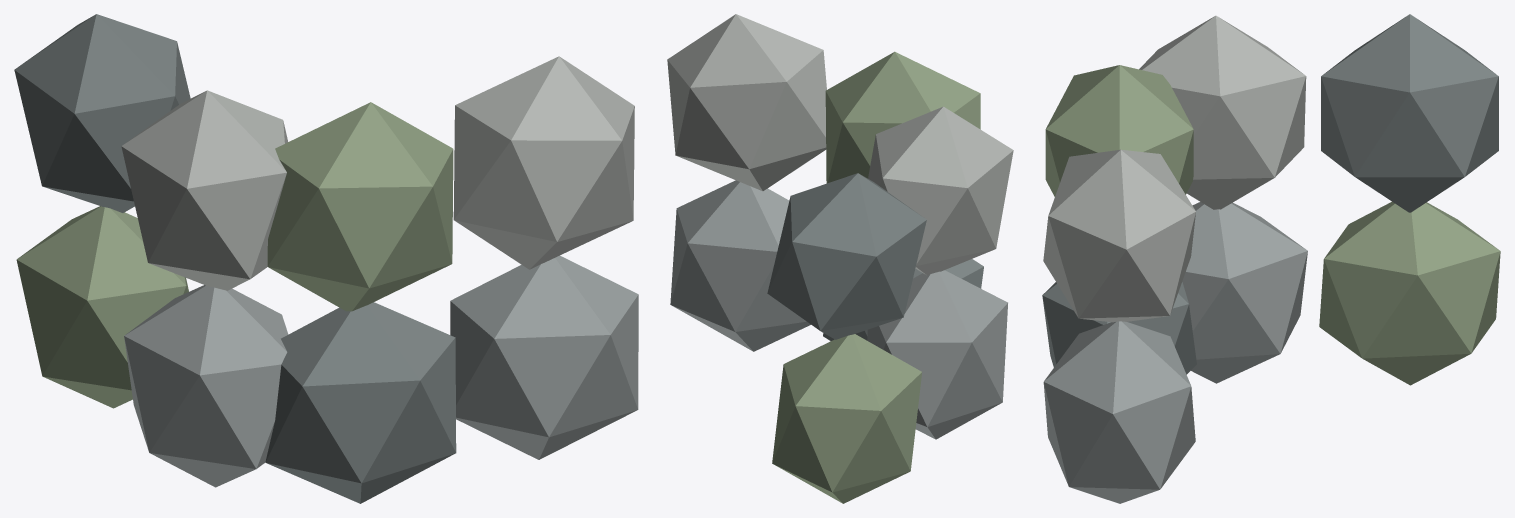
The model's file is cliff_corner_outer_2x2x2.glb.
3 renders of one model, left to right at view 1: azimuth 30°, elevation 25°; view 2: azimuth 150°, elevation 25°; view 3: azimuth 270°, elevation 25°, orthographic. The views are drawn at different scales.
Visible parts, largest first — view 1: cliff_corner_outer_03, cliff_corner_outer_07, cliff_corner_outer_05, cliff_corner_outer_01, cliff_corner_outer_02, cliff_corner_outer_06, cliff_corner_outer_08, cliff_corner_outer_04; view 2: cliff_corner_outer_07, cliff_corner_outer_04, cliff_corner_outer_08, cliff_corner_outer_03, cliff_corner_outer_06, cliff_corner_outer_02, cliff_corner_outer_05, cliff_corner_outer_01; view 3: cliff_corner_outer_08, cliff_corner_outer_04, cliff_corner_outer_03, cliff_corner_outer_07, cliff_corner_outer_06, cliff_corner_outer_02, cliff_corner_outer_05, cliff_corner_outer_01.
Part boxes in pixels (left/top/right/bottom): cliff_corner_outer_03: left=450, top=255, right=638, bottom=459; cliff_corner_outer_07: left=453, top=56, right=634, bottom=269; cliff_corner_outer_05: left=267, top=102, right=453, bottom=311; cliff_corner_outer_01: left=265, top=302, right=456, bottom=503; cliff_corner_outer_02: left=124, top=285, right=288, bottom=487; cliff_corner_outer_06: left=121, top=90, right=287, bottom=290; cliff_corner_outer_08: left=14, top=14, right=190, bottom=212; cliff_corner_outer_04: left=16, top=206, right=188, bottom=408; cliff_corner_outer_07: left=667, top=14, right=826, bottom=191; cliff_corner_outer_04: left=772, top=334, right=922, bottom=503; cliff_corner_outer_08: left=767, top=173, right=926, bottom=339; cliff_corner_outer_03: left=670, top=180, right=810, bottom=351; cliff_corner_outer_06: left=868, top=106, right=1013, bottom=275; cliff_corner_outer_02: left=867, top=270, right=1007, bottom=439; cliff_corner_outer_05: left=825, top=51, right=980, bottom=183; cliff_corner_outer_01: left=823, top=259, right=983, bottom=341; cliff_corner_outer_08: left=1321, top=14, right=1498, bottom=212; cliff_corner_outer_04: left=1319, top=201, right=1500, bottom=385; cliff_corner_outer_03: left=1043, top=321, right=1195, bottom=503; cliff_corner_outer_07: left=1043, top=149, right=1195, bottom=322; cliff_corner_outer_06: left=1139, top=15, right=1306, bottom=209; cliff_corner_outer_02: left=1182, top=202, right=1307, bottom=383; cliff_corner_outer_05: left=1045, top=65, right=1193, bottom=196; cliff_corner_outer_01: left=1042, top=282, right=1196, bottom=374.
Size of the model in its own units: 2.41 by 2.08 by 2.37.
